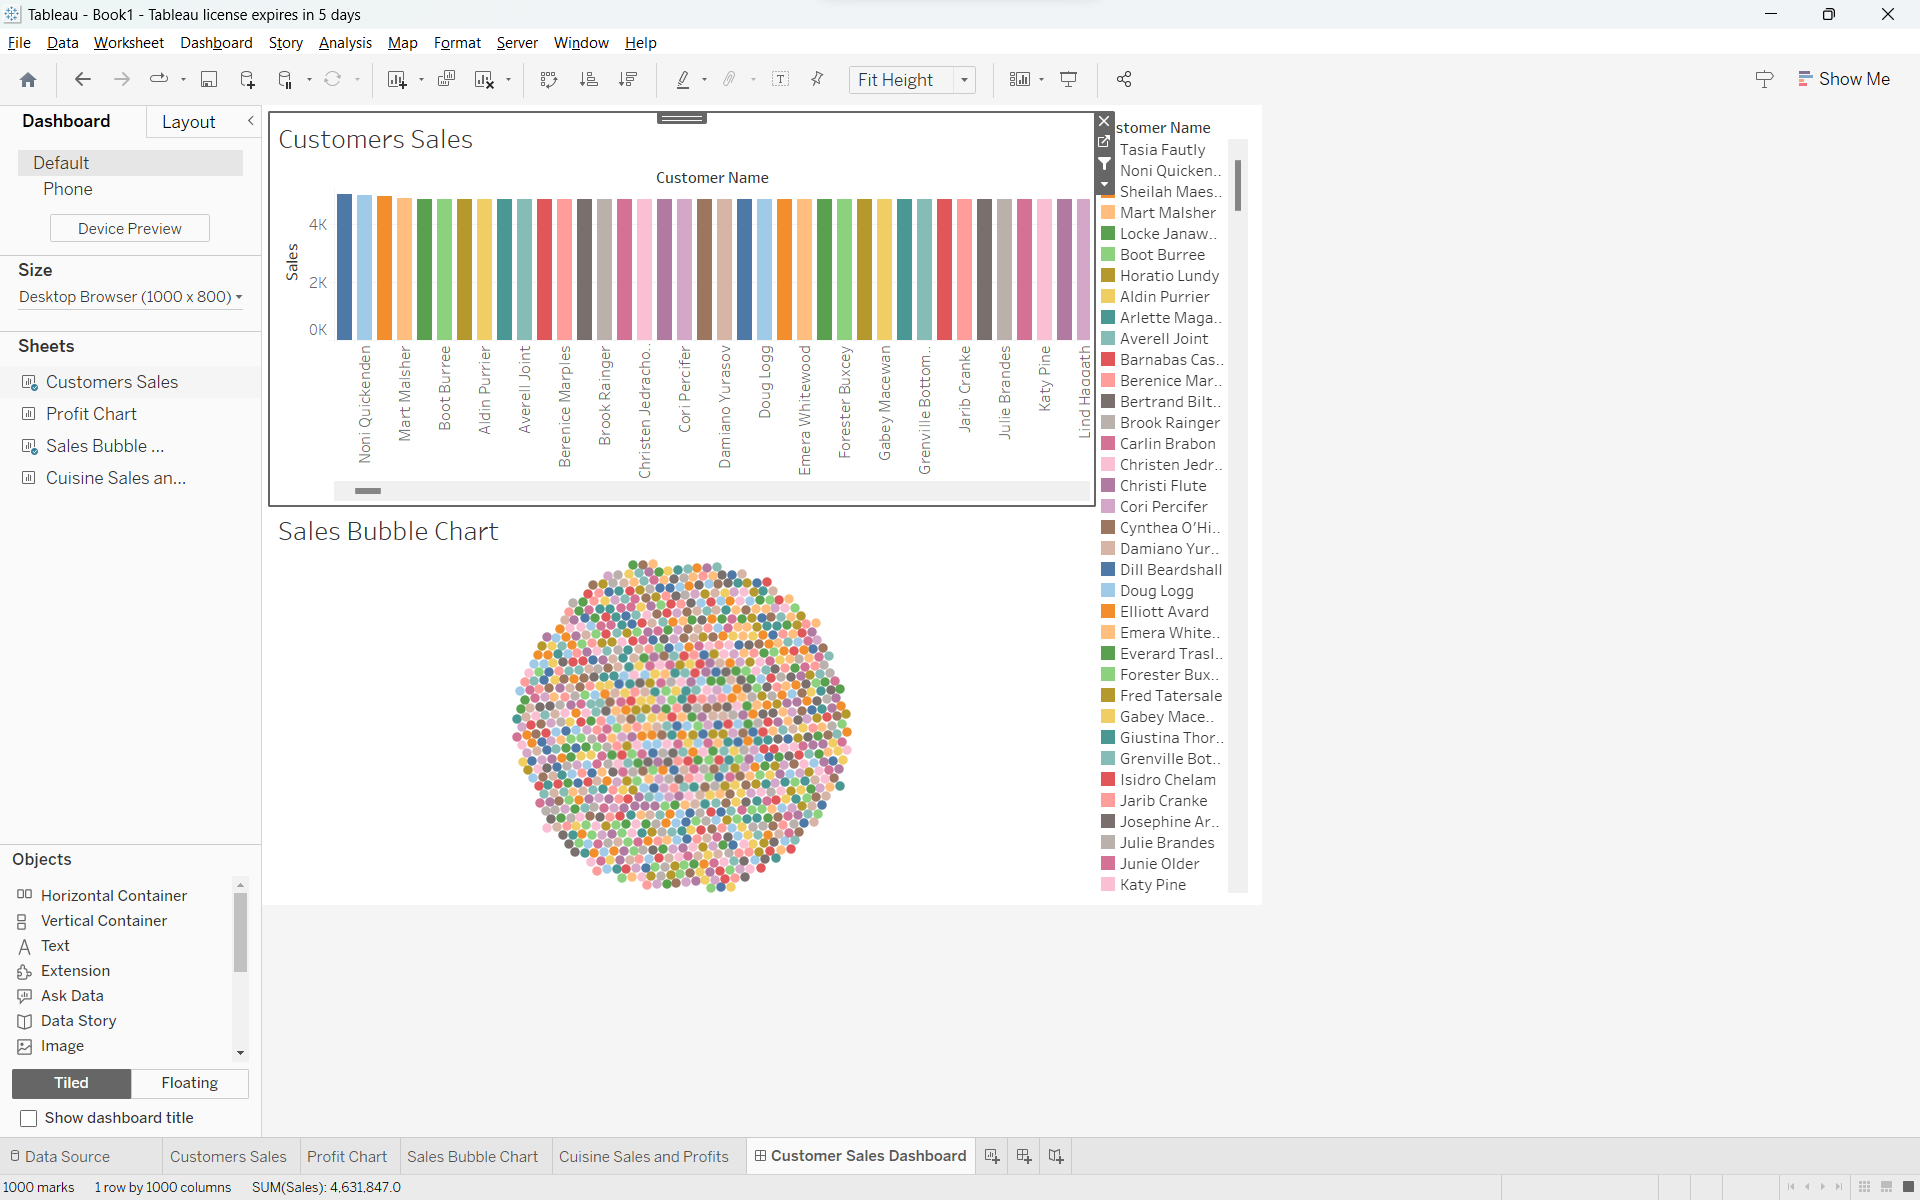

The page's visual inventory and layout, read from the dashboard file:
{"tool":"tableau","page":{"name":"Customer Sales Dashboard","canvas":[1000,800],"ordinal":0},"visuals":[{"type":"worksheet","title":"Customers Sales","mark":"Automatic","rows":["Sales"],"cols":["Customer Name"],"box":[8,8,824,392]},{"type":"legend","title":"Customers Sales","param":"[federated.1bhzlbj1kgwso21c6pcn60zg6jeb].[none:Customer Name:nk]","box":[832,8,160,784]},{"type":"worksheet","title":"Sales Bubble Chart","mark":"Circle","box":[8,400,824,392]}]}

Visuals, with their boxes on the page's 1000x800 design canvas (x1, y1, x2, y2). These are canvas units, not pixel positions in the 1920x1200 screenshot, which may show the page scaled, cropped or inside an application window:
"Customers Sales" worksheet: [left=8, top=8, right=832, bottom=400]
"Customers Sales" legend: [left=832, top=8, right=992, bottom=792]
"Sales Bubble Chart" worksheet (Circle marks): [left=8, top=400, right=832, bottom=792]
